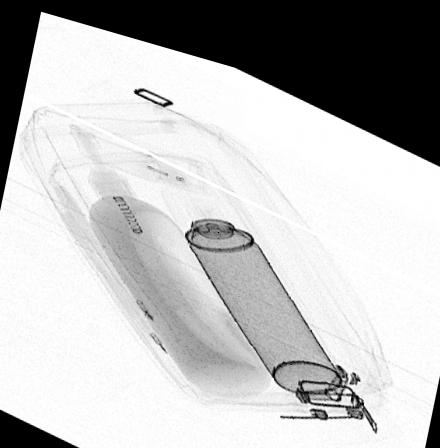Sprayer: (159, 175, 342, 379)
